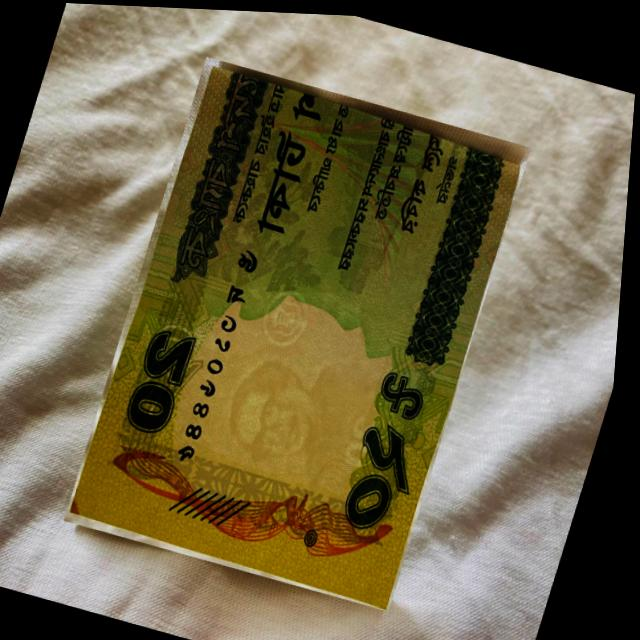Taka: (67, 51, 537, 611)
